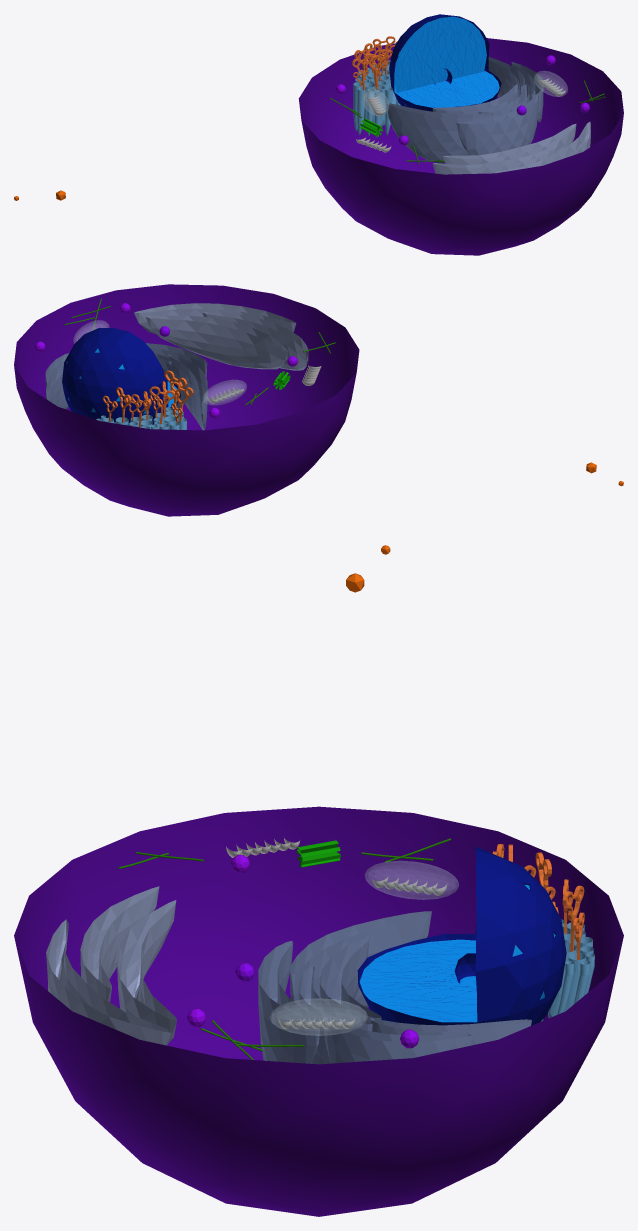
Rendered from Cell.gltf.
The picture shows the model from 3 angles, top to bottom: view 1: azimuth 30°, elevation 25°; view 2: azimuth 150°, elevation 25°; view 3: azimuth 270°, elevation 25°; orthographic projection. The views are drawn at different scales.
Parts seen in each view (by area): view 1: Cell Wall, Rough ER, Nucelous, Golgi Apparatus, Smooth ER Pt 2, Smooth ER Pt 1, Mitocondirion 1, Mitocondirion 1.002; view 2: Cell Wall, Golgi Apparatus, Nucelous, Rough ER, Smooth ER Pt 1, Smooth ER Pt 2, Mitocondirion 1.002; view 3: Cell Wall, Nucelous, Rough ER, Golgi Apparatus, Mitocondirion 1, Mitocondirion 1.002, Smooth ER Pt 2, Smooth ER Pt 1, Something.
Boxes of the visible parts, left/top/right/bottom form: Cell Wall: left=298, top=38, right=623, bottom=255; Rough ER: left=386, top=57, right=543, bottom=163; Nucelous: left=389, top=14, right=501, bottom=111; Golgi Apparatus: left=432, top=122, right=590, bottom=174; Smooth ER Pt 2: left=353, top=60, right=400, bottom=137; Smooth ER Pt 1: left=352, top=36, right=397, bottom=95; Mitocondirion 1: left=534, top=71, right=567, bottom=96; Mitocondirion 1.002: left=362, top=89, right=388, bottom=115; Cell Wall: left=14, top=284, right=359, bottom=516; Golgi Apparatus: left=134, top=303, right=308, bottom=370; Nucelous: left=62, top=327, right=180, bottom=424; Rough ER: left=45, top=343, right=207, bottom=430; Smooth ER Pt 1: left=102, top=370, right=193, bottom=428; Smooth ER Pt 2: left=96, top=407, right=186, bottom=429; Mitocondirion 1.002: left=202, top=380, right=246, bottom=404; Cell Wall: left=14, top=806, right=623, bottom=1216; Nucelous: left=357, top=847, right=566, bottom=1025; Rough ER: left=258, top=911, right=531, bottom=1064; Golgi Apparatus: left=46, top=886, right=176, bottom=1045; Mitocondirion 1: left=270, top=998, right=367, bottom=1035; Mitocondirion 1.002: left=365, top=861, right=458, bottom=899; Smooth ER Pt 2: left=540, top=919, right=594, bottom=1021; Smooth ER Pt 1: left=492, top=844, right=584, bottom=959; Something: left=297, top=840, right=340, bottom=867.
Bounding box in the file's own units: 15.91 × 5 × 7.9.
Materials: 16 (1 with a texture image).
